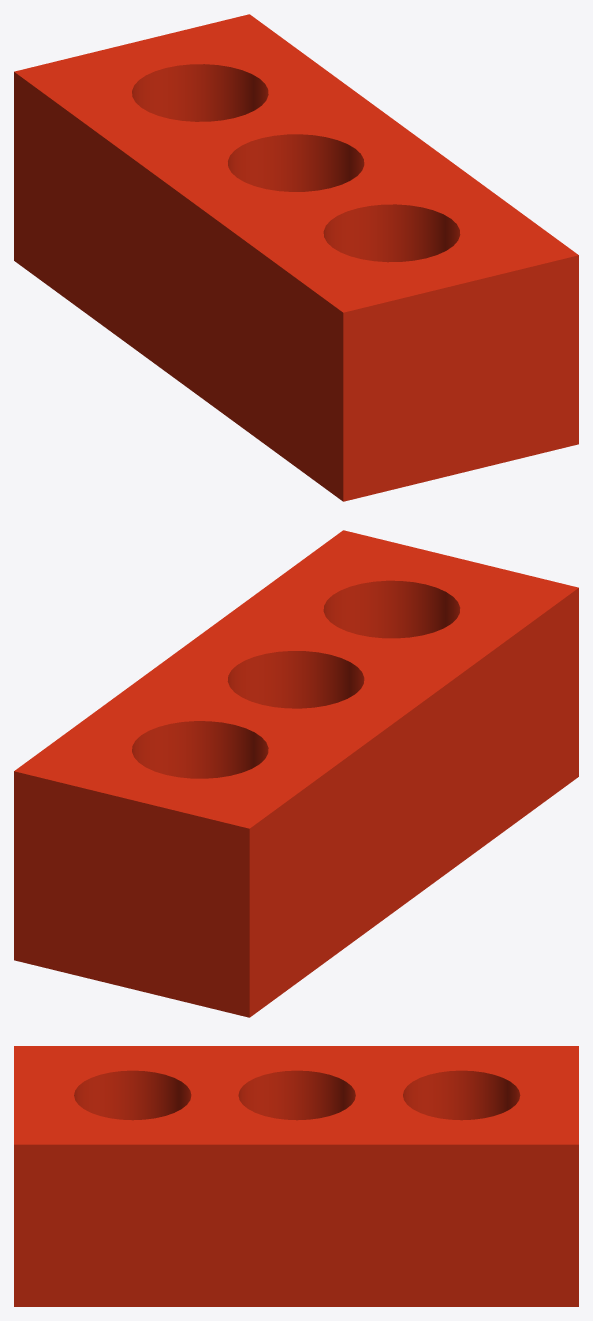
File: Brick.fbx
3 views of the same model, one above another, from view 1: azimuth 30°, elevation 25°; view 2: azimuth 150°, elevation 25°; view 3: azimuth 270°, elevation 25° (orthographic). The views are drawn at different scales.
Visible parts, largest first — view 1: Brick; view 2: Brick; view 3: Brick.
Boxes of the visible parts, x1,y1,x2,y2 form: Brick: (14, 14, 578, 501); Brick: (14, 530, 578, 1017); Brick: (14, 1046, 578, 1306).
Bounding box in the file's own units: 82.07 × 62.92 × 199.
